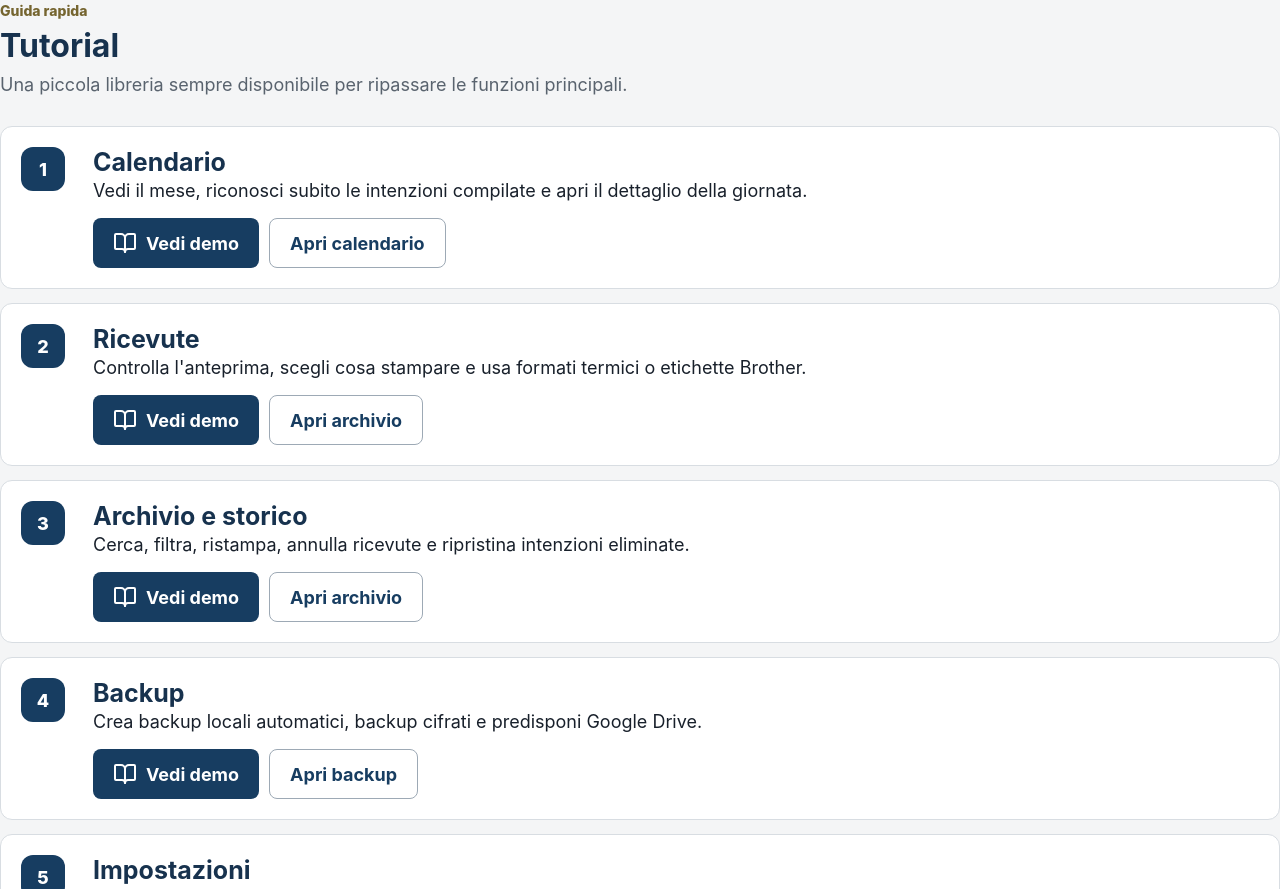
Test: tutorial guidato › mostra una demo automatica per ogni capitolo
Click the 1st button "Vedi demo".
click(176, 243)  # box x1=93 y1=218 x2=259 y2=268
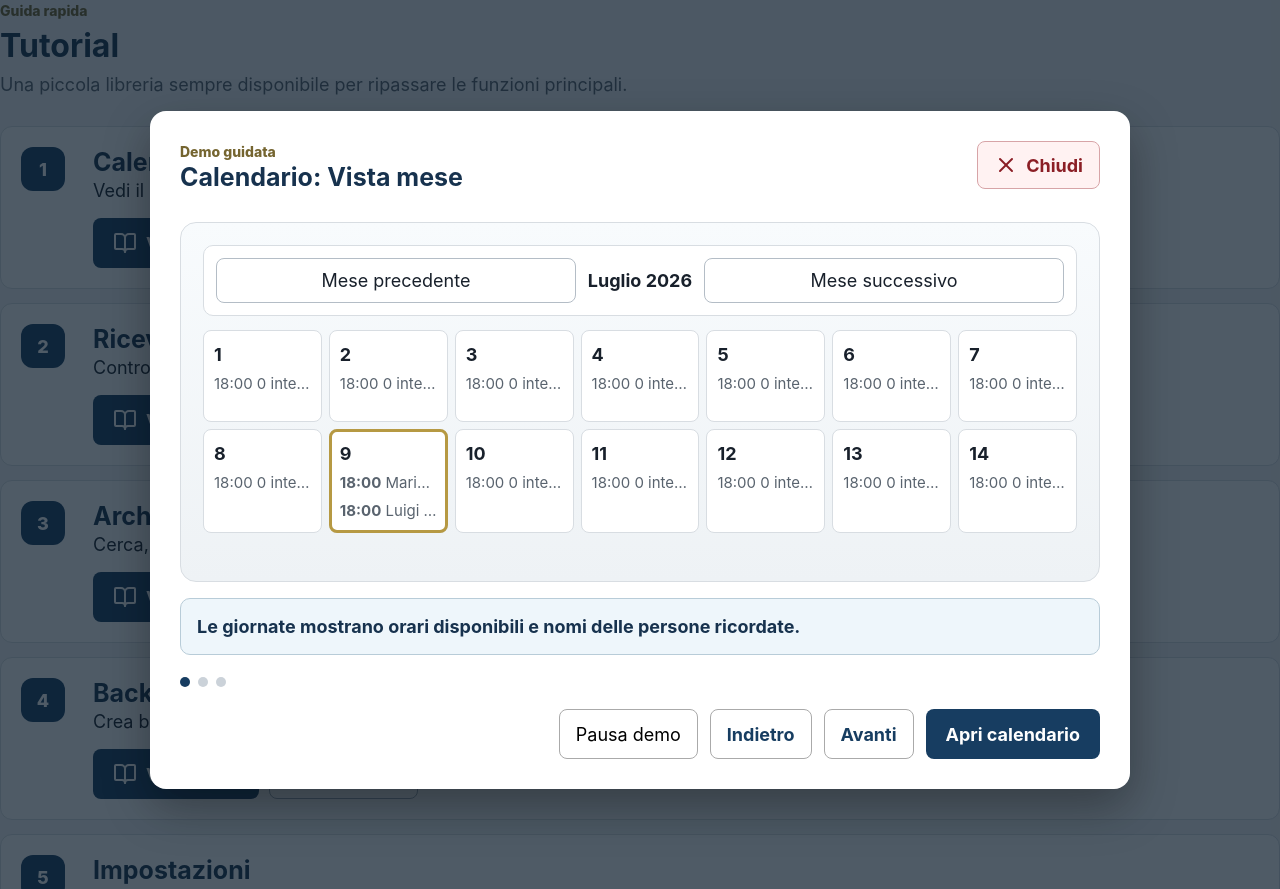
Result: the heading "Calendario: Vista mese" is shown at x1=180 y1=162 x2=463 y2=192
Result: the text "Le giornate mostrano orari disponibili" is shown at x1=197 y1=616 x2=800 y2=637
Result: the text "Luglio 2026" is shown at x1=588 y1=267 x2=692 y2=294
